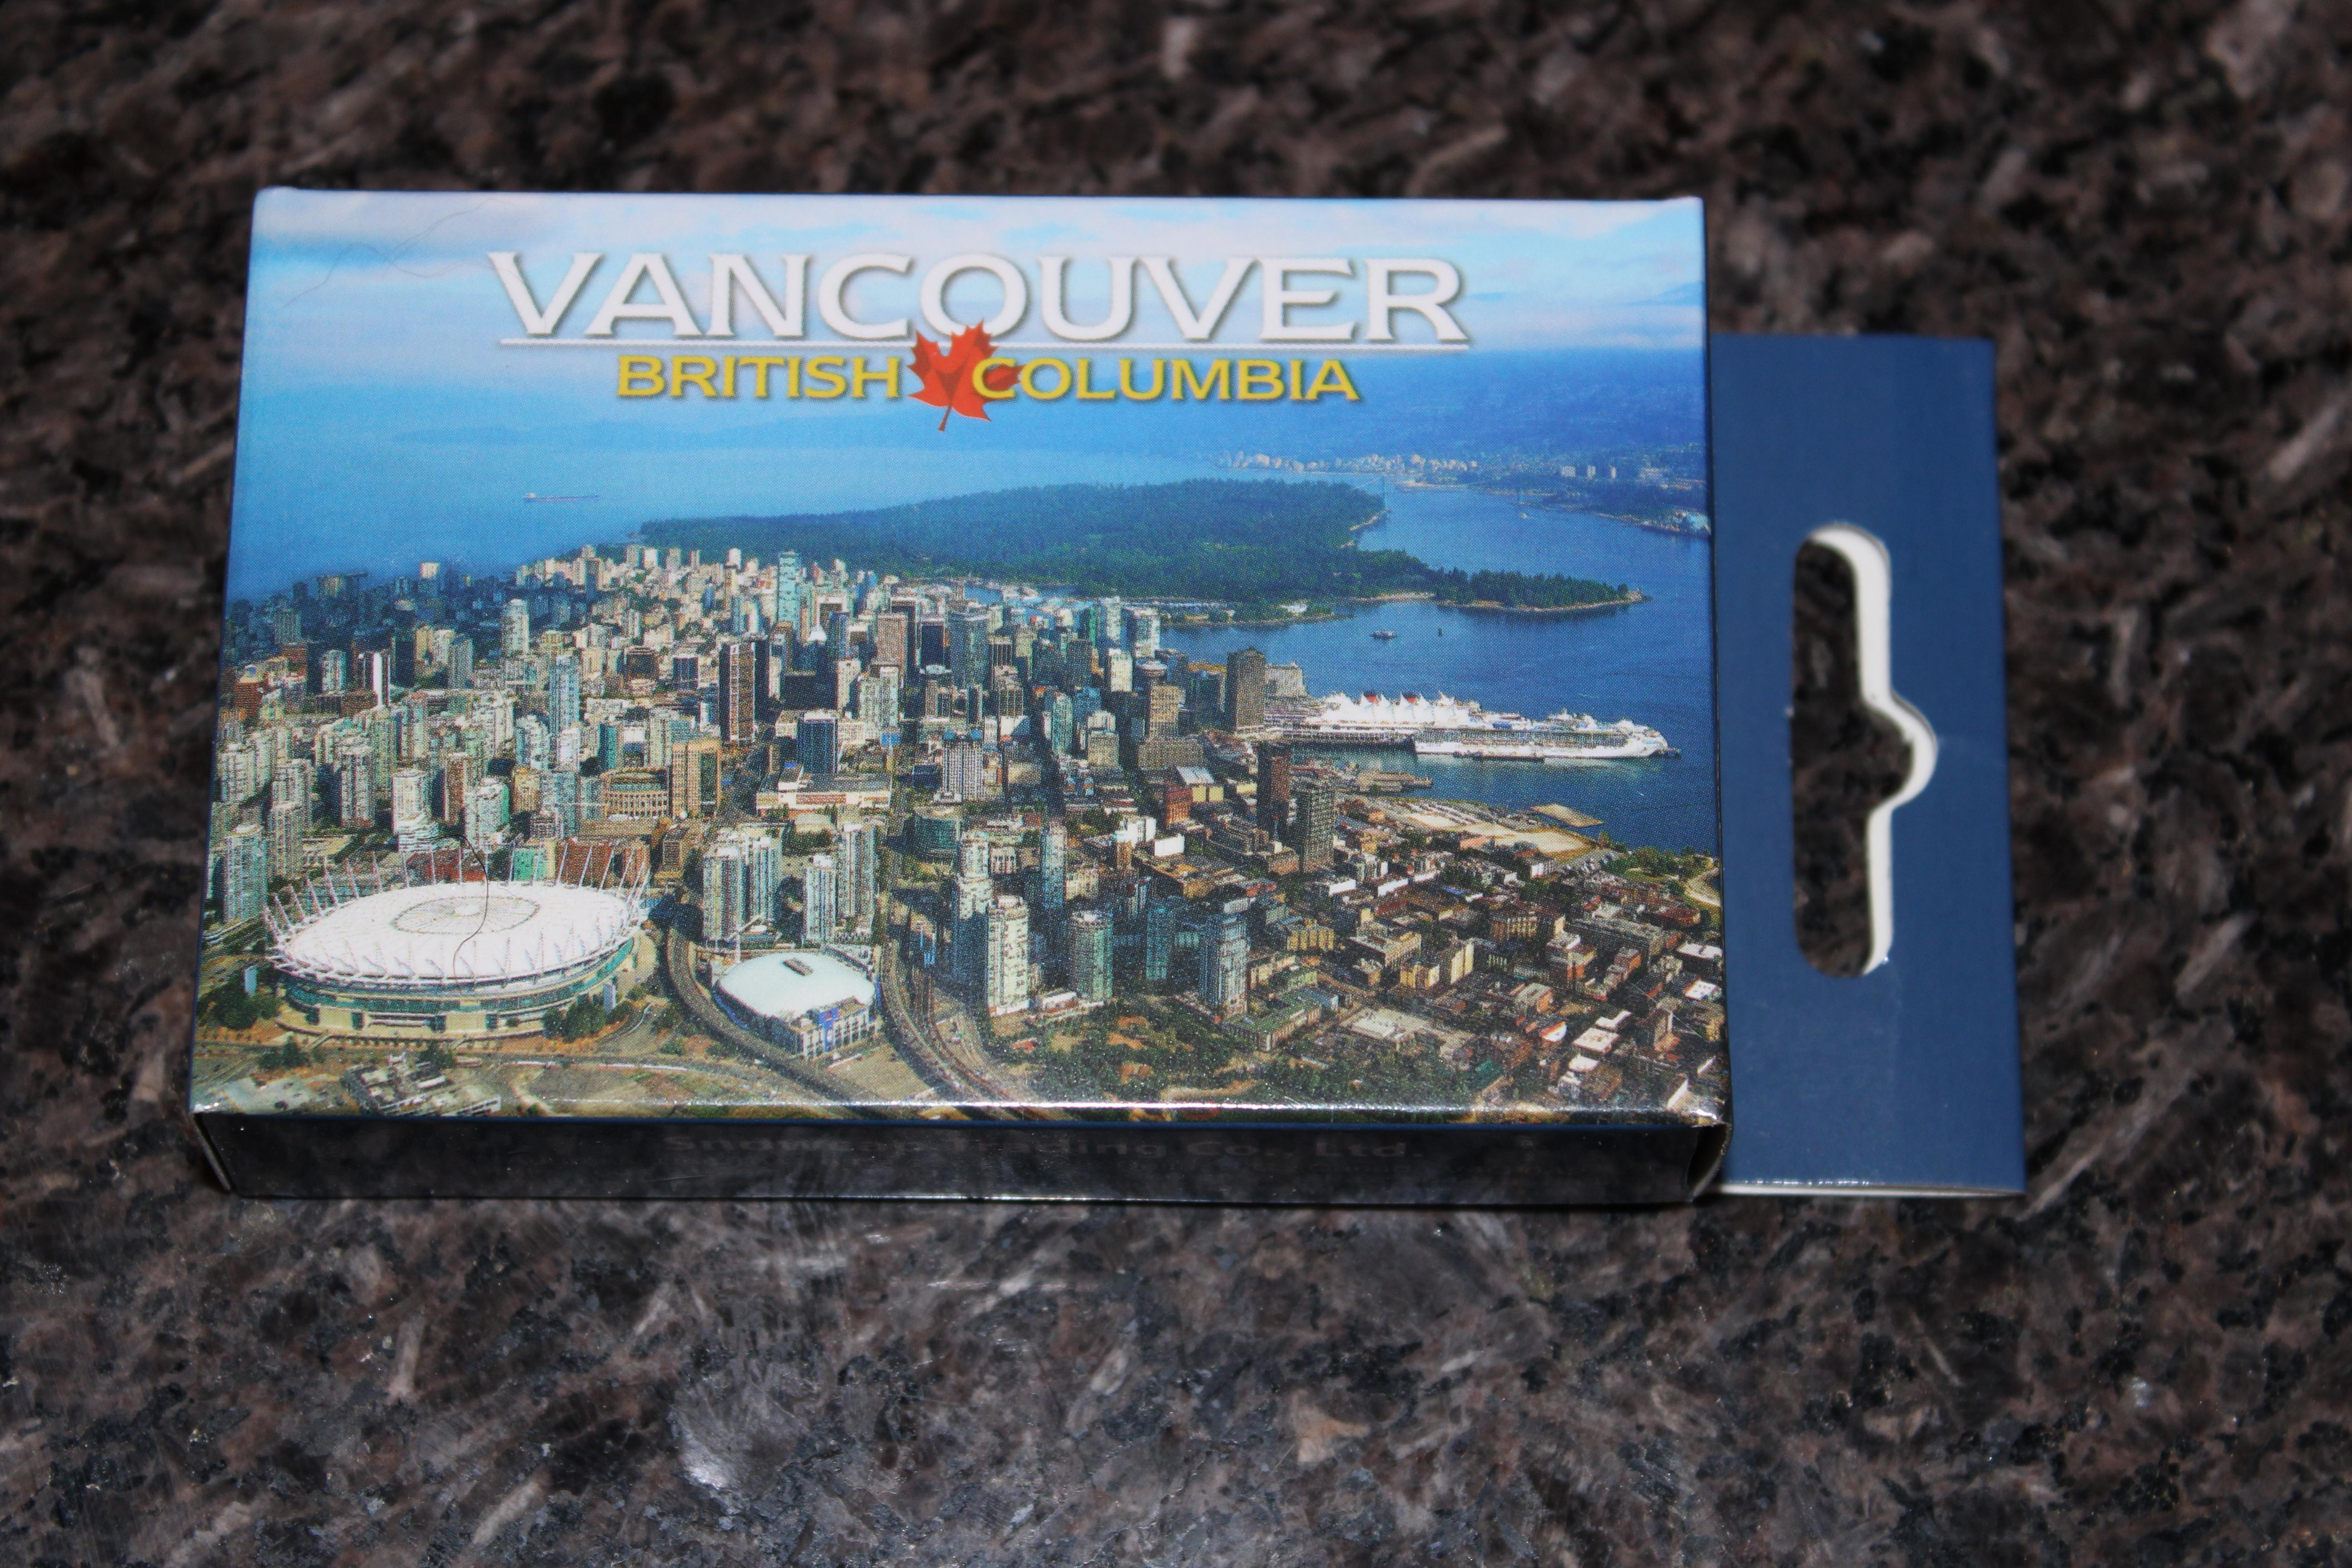vancouverCards: (149, 137, 2082, 1255)
